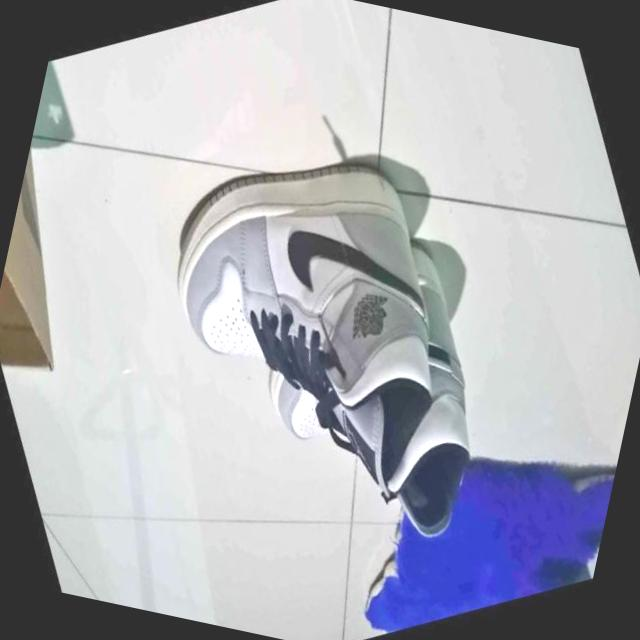nike_original_jordan: (82, 95, 539, 586), (180, 197, 558, 606)
